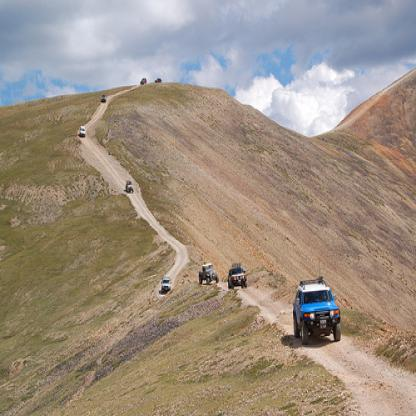car: (291, 274, 341, 344), (227, 264, 248, 291), (196, 261, 219, 285), (160, 276, 172, 292), (76, 122, 86, 138), (124, 178, 133, 192)
